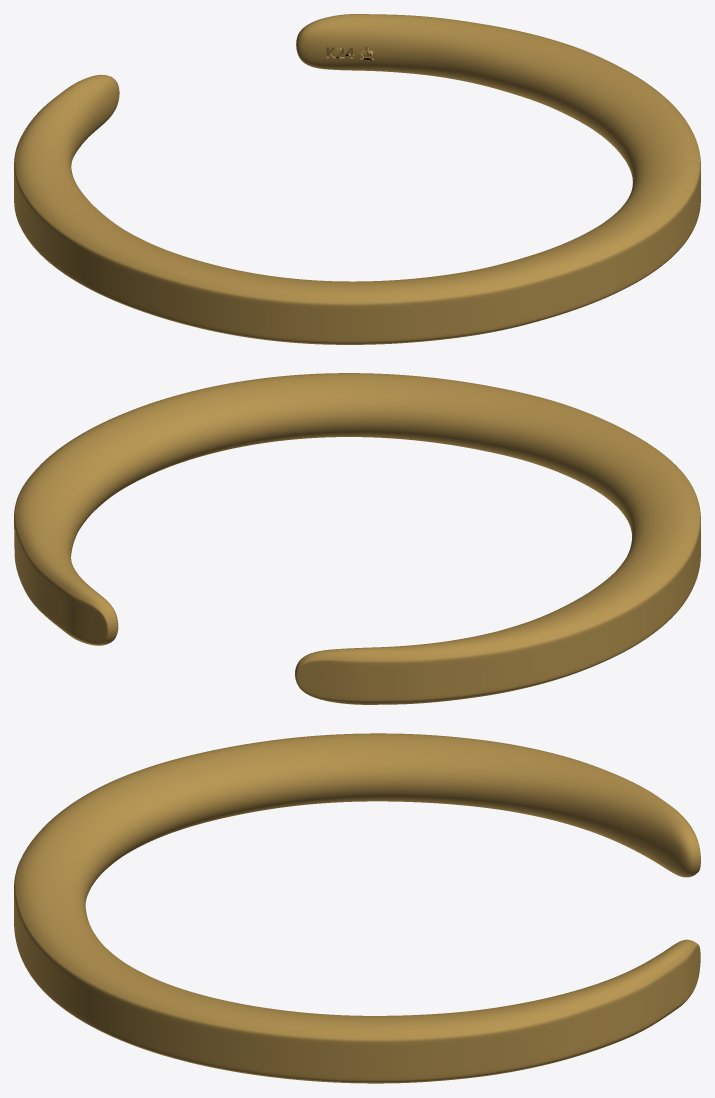
The model's file is ring-gold24.glb.
3 views of the same model, one above another, from view 1: azimuth 30°, elevation 25°; view 2: azimuth 150°, elevation 25°; view 3: azimuth 270°, elevation 25° (orthographic). The views are drawn at different scales.
Parts seen in each view (by area): view 1: ring-body.008; view 2: ring-body.008; view 3: ring-body.008.
Boxes of the visible parts, <box> form: ring-body.008: <box>14,14,700,344</box>; ring-body.008: <box>14,373,700,704</box>; ring-body.008: <box>14,733,700,1083</box>.
Size of the model in its own units: 0.5115 by 0.0444 by 0.4854.
1 material, 1 textured.
